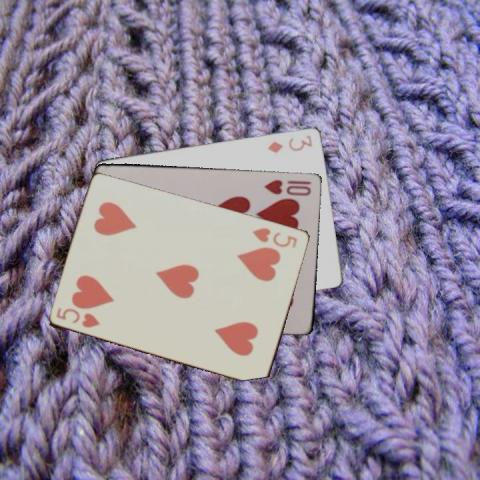10h: (261, 176, 313, 196)
3d: (264, 131, 314, 154)
5h: (250, 224, 300, 249), (53, 305, 102, 329)
